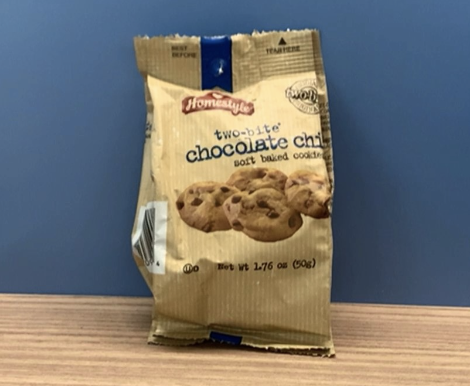cookies_1g-99g: (157, 87, 322, 289)
